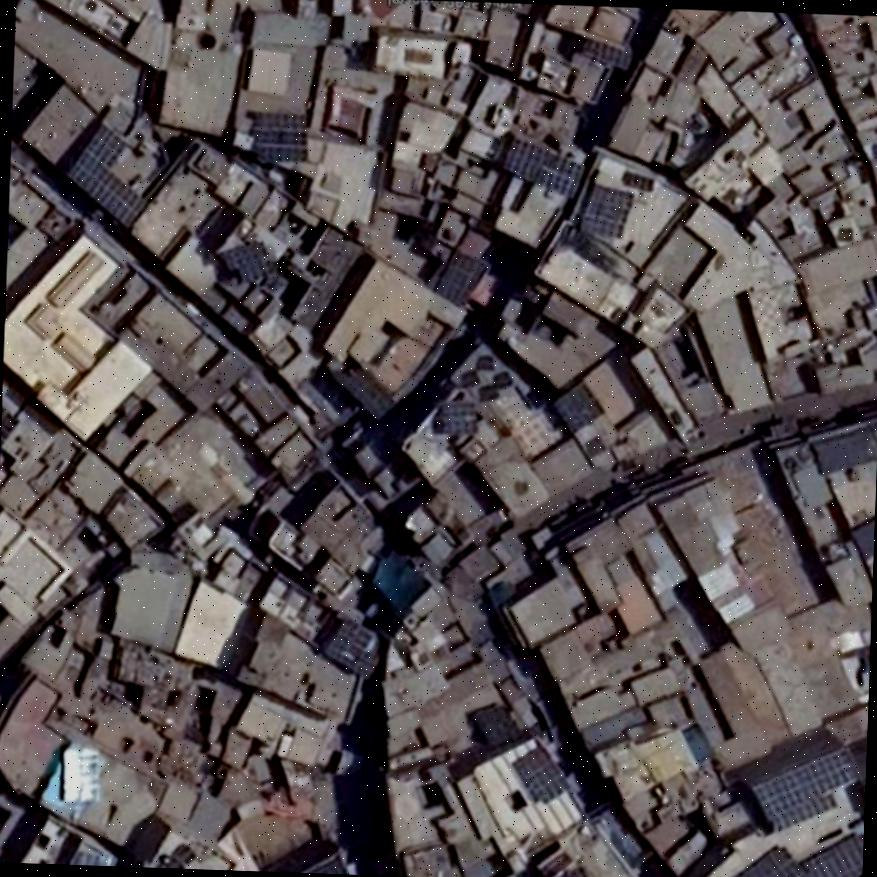Solarpanel: (66, 125, 166, 226), (752, 747, 864, 832), (502, 140, 585, 199), (323, 618, 387, 677), (514, 747, 570, 804), (435, 248, 487, 307), (798, 831, 862, 877), (580, 185, 634, 239), (259, 111, 309, 160), (735, 846, 803, 877), (554, 383, 591, 432), (228, 242, 272, 282), (584, 38, 630, 70), (442, 402, 476, 433)
